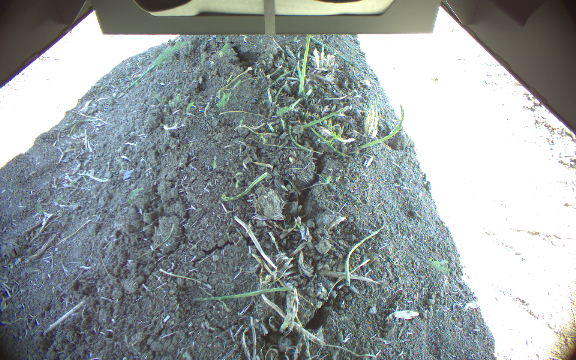aspa: (354, 104, 404, 153), (297, 34, 311, 96)
